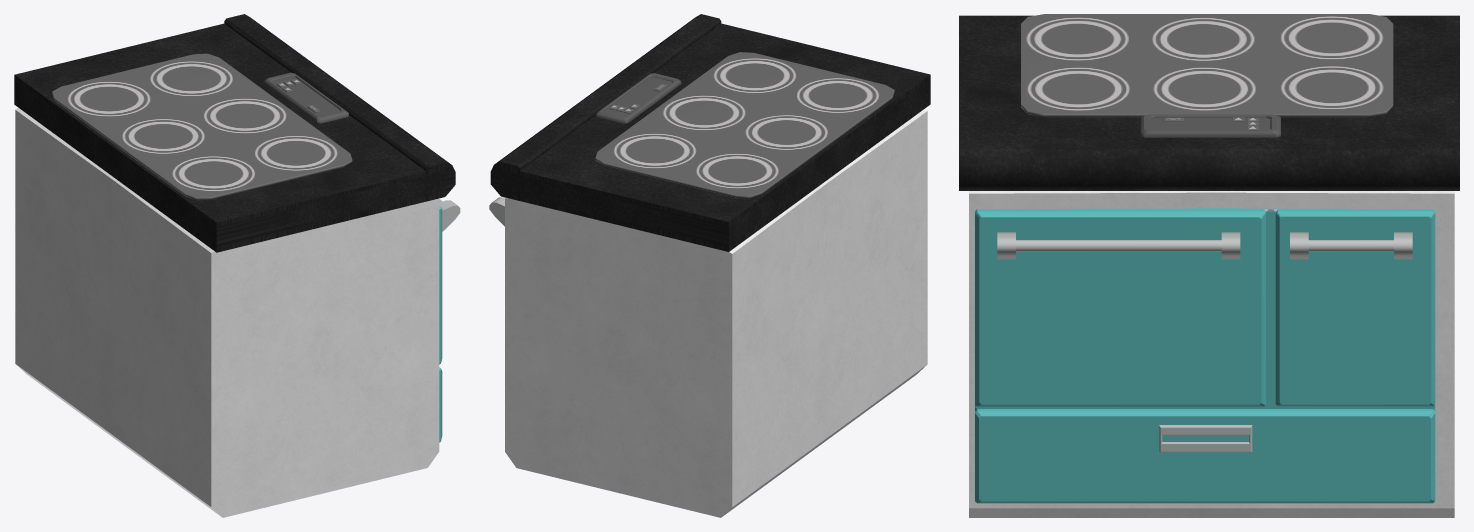
Rendered from CounterOven_geo.fbx.
3 renders of one model, left to right at view 1: azimuth 30°, elevation 25°; view 2: azimuth 150°, elevation 25°; view 3: azimuth 270°, elevation 25°, orthographic. The views are drawn at different scales.
Visible parts, largest first — view 1: OvenCounterShape; view 2: OvenCounterShape; view 3: OvenCounterShape.
Part boxes in pixels (box(x1,y1,x2,y2)): OvenCounterShape: box(14, 14, 460, 517); OvenCounterShape: box(489, 14, 930, 517); OvenCounterShape: box(959, 14, 1459, 517).
Size of the model in its own units: 90.12 by 102 by 121.
Materials: 1 (1 with a texture image).
